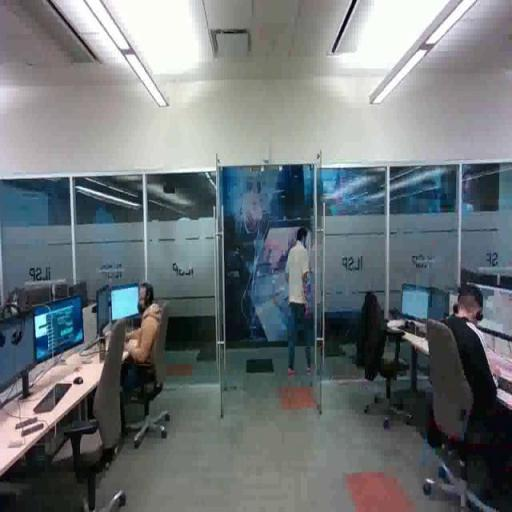person: (284, 228, 321, 379)
